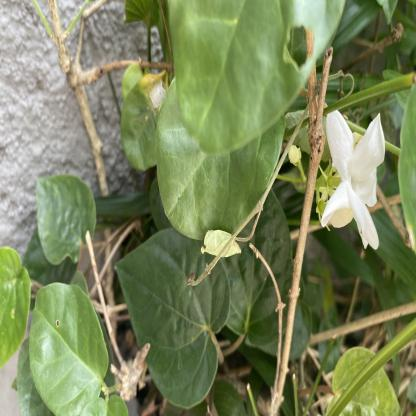Melati: (303, 89, 391, 308)
